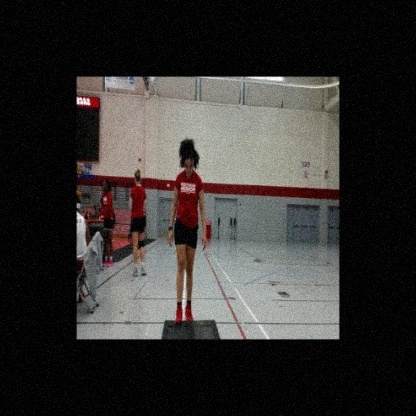lateral_flexion_right: (169, 136, 208, 328)
stance_width_narrow: (168, 168, 208, 328)
